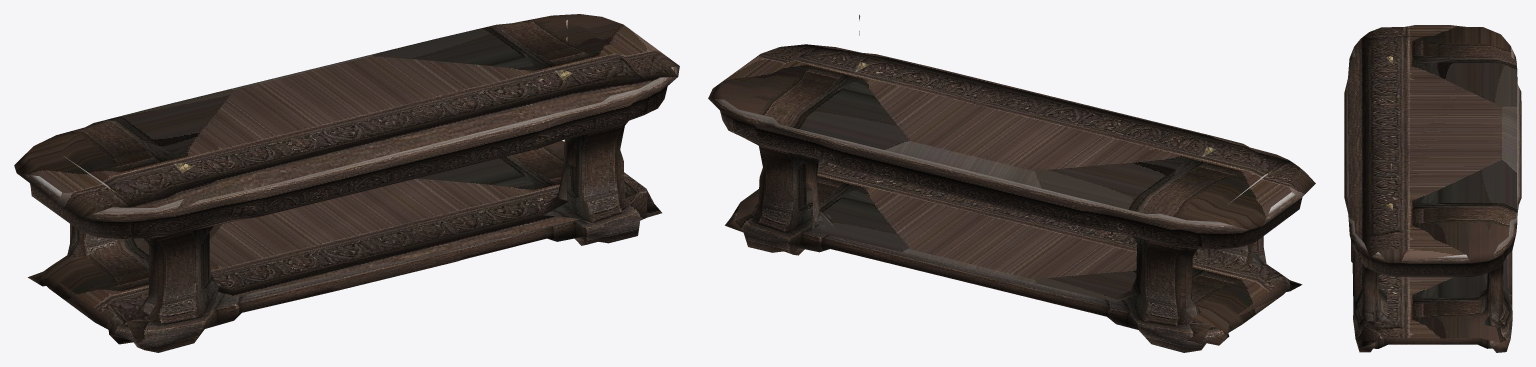
File: longtable_high.glb
The picture shows the model from 3 angles, left to right: view 1: azimuth 30°, elevation 25°; view 2: azimuth 150°, elevation 25°; view 3: azimuth 270°, elevation 25°; orthographic projection. The views are drawn at different scales.
Visible parts, largest first — view 1: longtable_high; view 2: longtable_high; view 3: longtable_high.
Part boxes in pixels (x1,y1,x2,y2): longtable_high: (14,14,679,352); longtable_high: (708,14,1315,352); longtable_high: (1344,25,1521,352).
Size of the model in its own units: 3.11 by 1.05 by 0.9928.
Materials: 1 (1 with a texture image).
